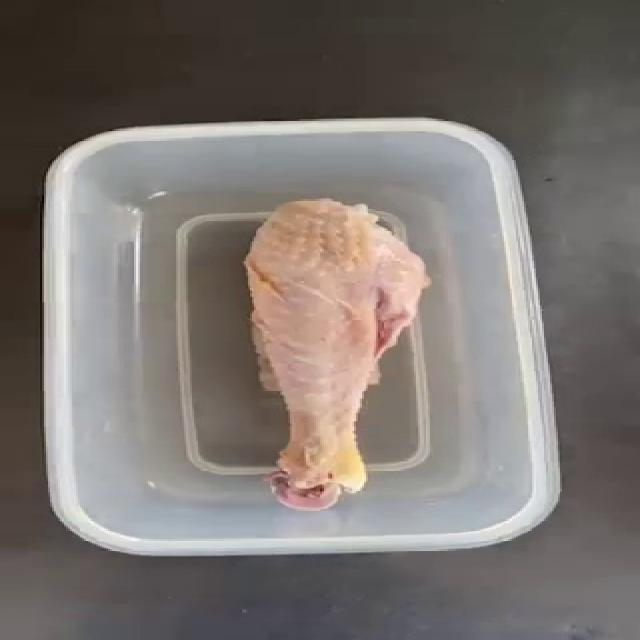chicken: (232, 196, 430, 524)
